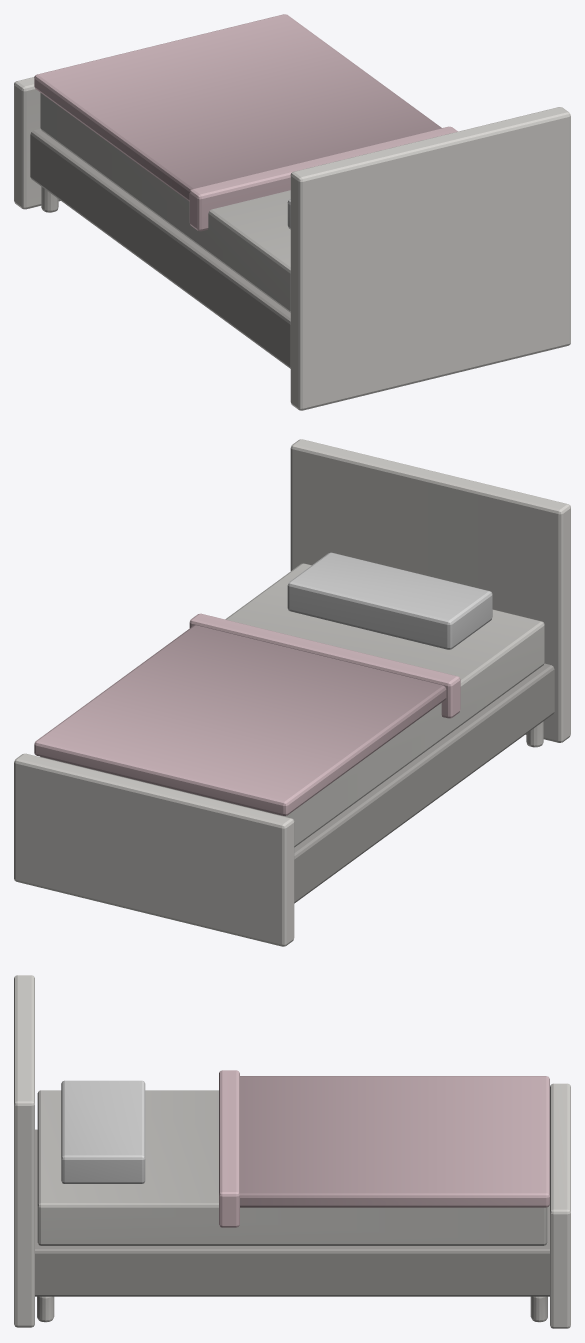
File: furn_bed__pink.glb
The picture shows the model from 3 angles, top to bottom: view 1: azimuth 30°, elevation 25°; view 2: azimuth 150°, elevation 25°; view 3: azimuth 270°, elevation 25°; orthographic projection. The views are drawn at different scales.
Size of the model in its own units: 1.16 by 0.955 by 2.12.
